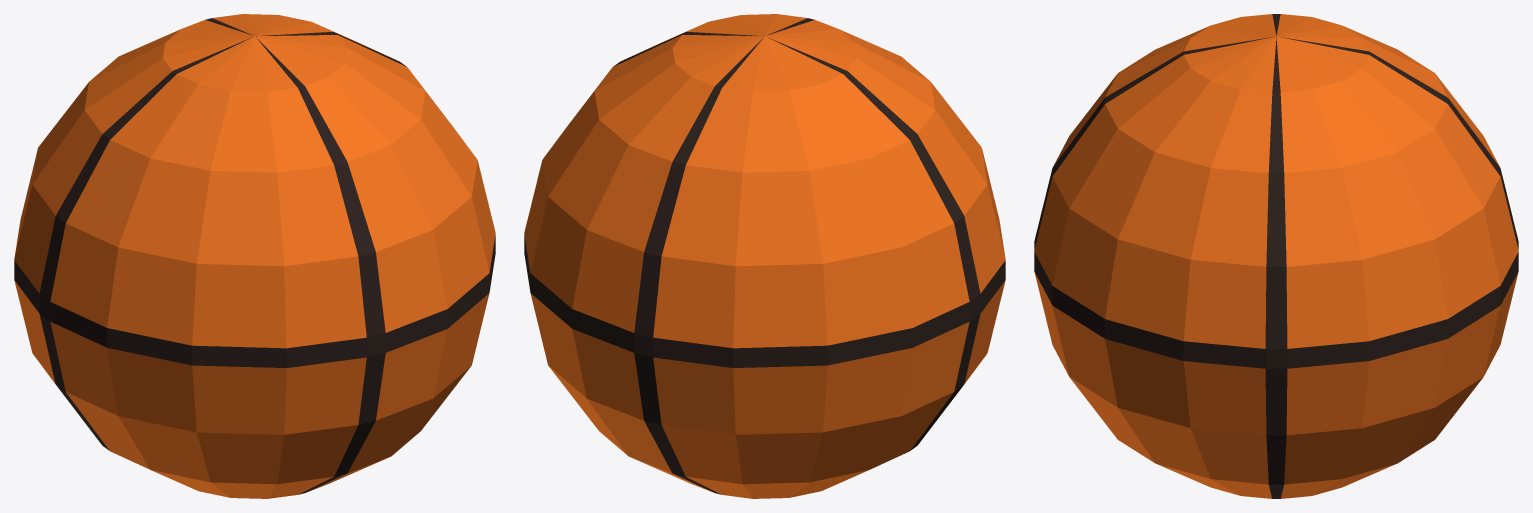
Rendered from sb-ball.glb.
3 renders of one model, left to right at view 1: azimuth 30°, elevation 25°; view 2: azimuth 150°, elevation 25°; view 3: azimuth 270°, elevation 25°, orthographic.
Visible parts, largest first — view 1: Ball; view 2: Ball; view 3: Ball.
Boxes of the visible parts, x1,y1,x2,y2 form: Ball: (14, 14, 495, 498); Ball: (524, 14, 1005, 498); Ball: (1034, 14, 1518, 498).
Size of the model in its own units: 0.2395 by 0.24 by 0.2395.
